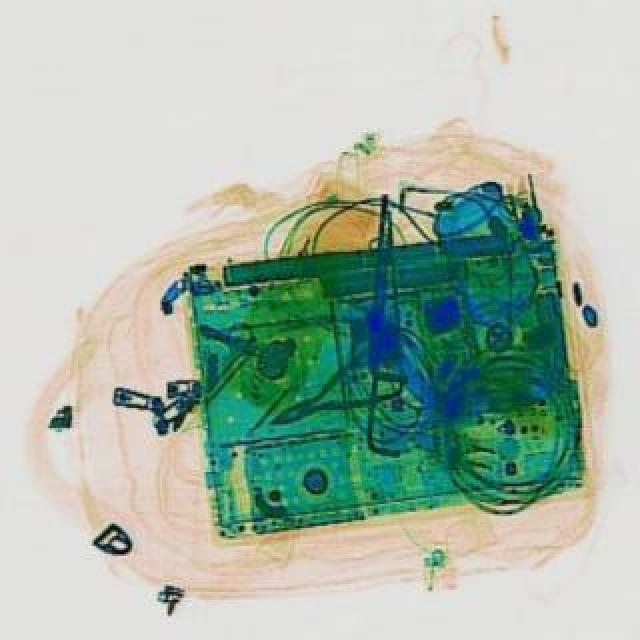wrench: (254, 344, 394, 448)
